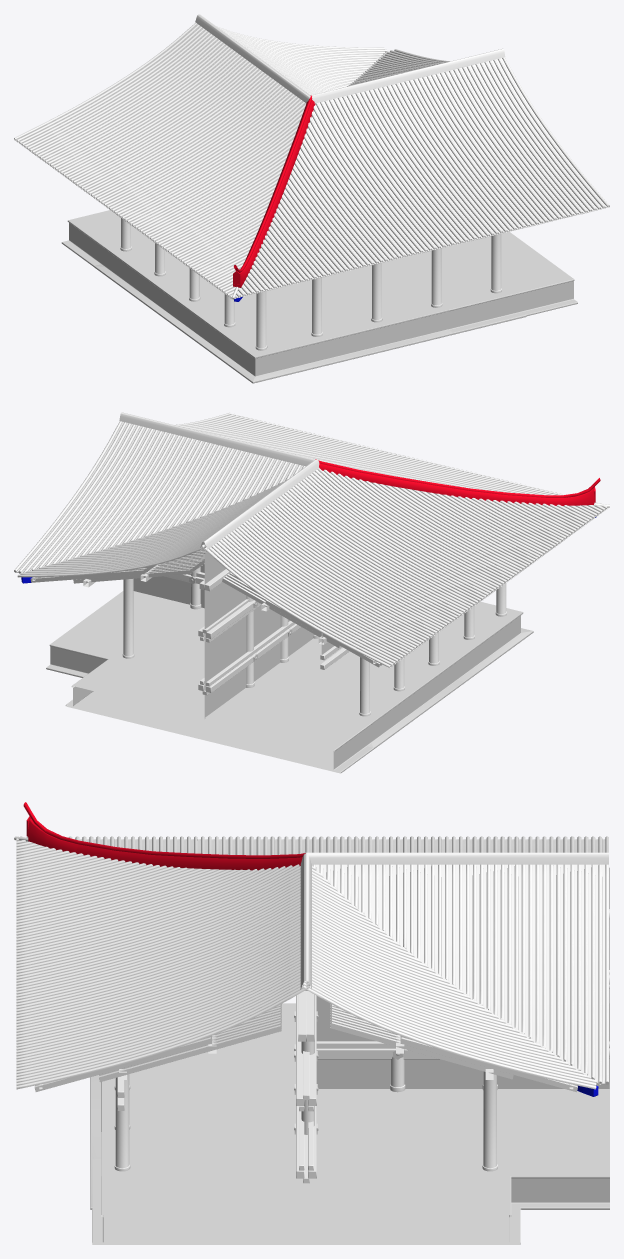
Rendered from Wall Big Corner.fbx.
3 renders of one model, top to bottom at view 1: azimuth 30°, elevation 25°; view 2: azimuth 150°, elevation 25°; view 3: azimuth 270°, elevation 25°, orthographic. The views are drawn at different scales.
Visible parts, largest first — view 1: S_Heiankyo_Building_Roof_Corner.002, S_Heiankyo_Building_Foundation_Corner.006, S_Heiankyo_Building_Foundation_Loop.021, S_Heiankyo_Building_Foundation_Loop.014, S_Heiankyo_Building_Pillar_2.029, S_Heiankyo_Building_Pillar_2.031, S_Heiankyo_Building_Pillar_2.030, S_Heiankyo_Building_Pillar_2.028; view 2: S_Heiankyo_Building_Roof_Corner.002, S_Heiankyo_Building_Foundation_Loop.014, S_Heiankyo_Building_Foundation_Corner.006, S_Heiankyo_Building_Foundation_Loop.021, S_Heiankyo_Building_WallClosed.088, S_Heiankyo_Building_UnderRoof_Corner.002, S_Heiankyo_Building_WallClosed.087, S_Heiankyo_Building_Pillar_2.031, S_Heiankyo_Building_Pillar_2.030, S_Heiankyo_Building_Bar_Big.1068, S_Heiankyo_Building_Bar_Big.1072, S_Heiankyo_Building_Bar_Big.1069 (+1 smaller); view 3: S_Heiankyo_Building_Roof_Corner.002, S_Heiankyo_Building_Foundation_Loop.021, S_Heiankyo_Building_Foundation_Corner.006, S_Heiankyo_Building_Foundation_Loop.014, S_Heiankyo_Building_UnderRoof_Corner.002, S_Heiankyo_Building_WallClosed.088, S_Heiankyo_Building_Pillar_2.030, S_Heiankyo_Building_Bar_Big.1066, S_Heiankyo_Building_Bar_Big.1068, S_Heiankyo_Building_Bar_Big.1065, S_Heiankyo_Building_Bar_Big.1063, S_Heiankyo_Building_Bar_Big.1067 (+1 smaller).
Boxes of the visible parts, x1,y1,x2,y2 form: S_Heiankyo_Building_Roof_Corner.002: [14, 14, 609, 299]; S_Heiankyo_Building_Foundation_Corner.006: [94, 236, 526, 383]; S_Heiankyo_Building_Foundation_Loop.021: [384, 231, 577, 332]; S_Heiankyo_Building_Foundation_Loop.014: [61, 210, 146, 295]; S_Heiankyo_Building_Pillar_2.029: [311, 248, 442, 336]; S_Heiankyo_Building_Pillar_2.031: [120, 218, 267, 350]; S_Heiankyo_Building_Pillar_2.030: [490, 233, 501, 293]; S_Heiankyo_Building_Pillar_2.028: [371, 262, 382, 322]; S_Heiankyo_Building_Roof_Corner.002: [14, 412, 609, 667]; S_Heiankyo_Building_Foundation_Loop.014: [65, 654, 413, 773]; S_Heiankyo_Building_Foundation_Corner.006: [192, 602, 533, 748]; S_Heiankyo_Building_Foundation_Loop.021: [46, 591, 204, 677]; S_Heiankyo_Building_WallClosed.088: [204, 552, 313, 718]; S_Heiankyo_Building_UnderRoof_Corner.002: [21, 517, 596, 667]; S_Heiankyo_Building_WallClosed.087: [133, 564, 204, 608]; S_Heiankyo_Building_Pillar_2.031: [359, 583, 506, 716]; S_Heiankyo_Building_Pillar_2.030: [122, 578, 134, 658]; S_Heiankyo_Building_Bar_Big.1068: [198, 623, 300, 692]; S_Heiankyo_Building_Bar_Big.1072: [200, 620, 295, 686]; S_Heiankyo_Building_Bar_Big.1069: [198, 600, 259, 638]; S_Heiankyo_Building_Roof_Corner.002: [14, 802, 608, 1089]; S_Heiankyo_Building_Foundation_Loop.021: [92, 1132, 520, 1244]; S_Heiankyo_Building_Foundation_Corner.006: [90, 1003, 521, 1209]; S_Heiankyo_Building_Foundation_Loop.014: [413, 1003, 609, 1209]; S_Heiankyo_Building_UnderRoof_Corner.002: [34, 912, 598, 1096]; S_Heiankyo_Building_WallClosed.088: [316, 867, 609, 1088]; S_Heiankyo_Building_Pillar_2.030: [114, 1071, 497, 1171]; S_Heiankyo_Building_Bar_Big.1066: [296, 995, 316, 1105]; S_Heiankyo_Building_Bar_Big.1068: [316, 1048, 609, 1057]; S_Heiankyo_Building_Bar_Big.1065: [298, 990, 314, 1041]; S_Heiankyo_Building_Bar_Big.1063: [299, 1111, 313, 1170]; S_Heiankyo_Building_Bar_Big.1067: [296, 1106, 316, 1178].
Size of the model in its own units: 1217 by 604 by 1221.
